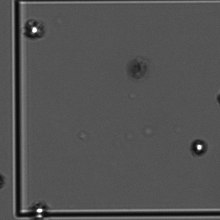Dead Cell: (123, 53, 152, 81)
Living Cell: (19, 16, 49, 43), (27, 197, 53, 218), (187, 136, 210, 158)
